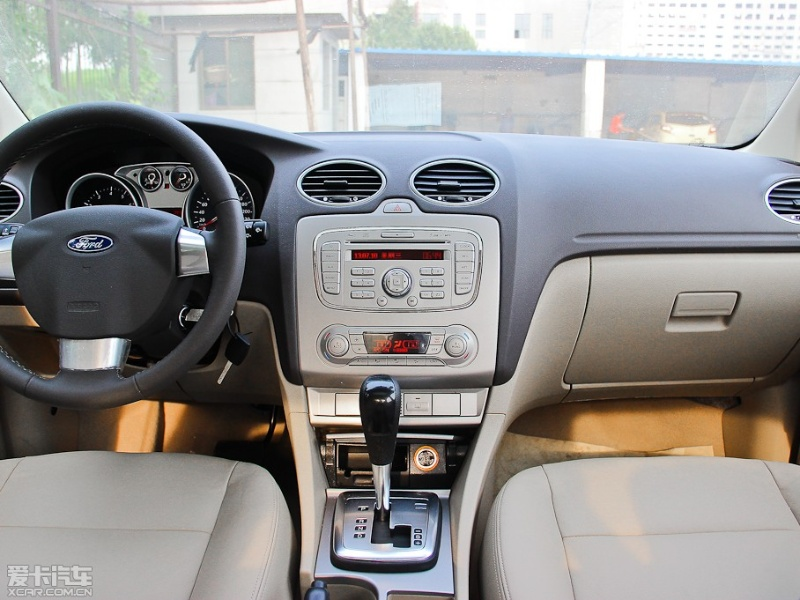control_center: (282, 136, 523, 378)
gear_lever: (303, 360, 458, 595)
odometer: (51, 136, 254, 224)
steering_wheel: (1, 100, 277, 371)
